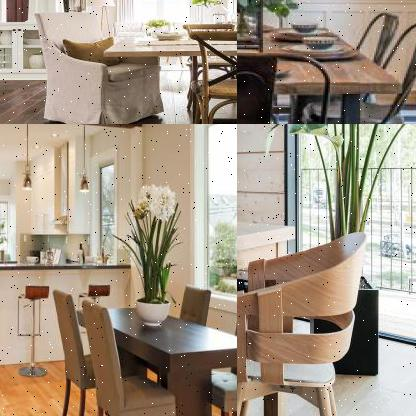table: (66, 294, 236, 415), (237, 17, 415, 123), (97, 20, 236, 123), (237, 202, 301, 415)
